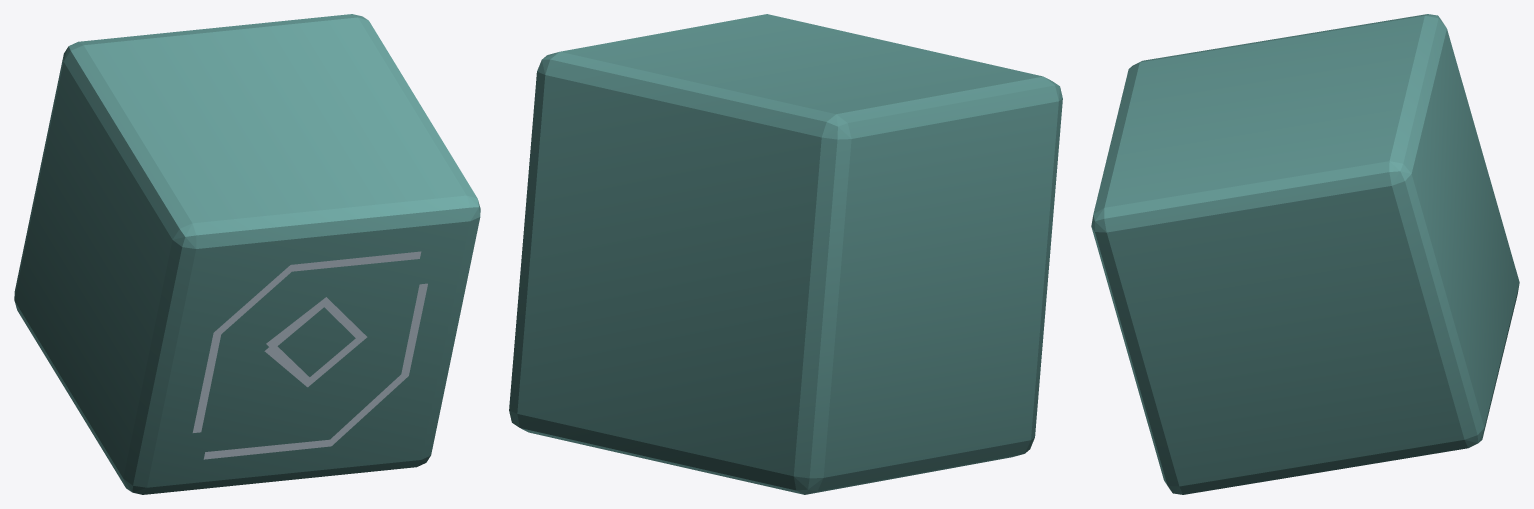
The model's file is 2064_Crystalfly_ShellBlock.fbx.
3 renders of one model, left to right at view 1: azimuth 30°, elevation 25°; view 2: azimuth 150°, elevation 25°; view 3: azimuth 270°, elevation 25°, orthographic. The views are drawn at different scales.
Visible parts, largest first — view 1: PART_HypostasisBevelledShell, PART_ShellAngularInlay_0, PART_ShellAngularInlay_1, PART_ShellAngularInlay_2; view 2: PART_HypostasisBevelledShell; view 3: PART_HypostasisBevelledShell.
Part boxes in pixels (left/top/right/bottom): PART_HypostasisBevelledShell: left=14, top=14, right=480, bottom=494; PART_ShellAngularInlay_0: left=192, top=251, right=421, bottom=432; PART_ShellAngularInlay_1: left=203, top=283, right=427, bottom=459; PART_ShellAngularInlay_2: left=264, top=297, right=367, bottom=387; PART_HypostasisBevelledShell: left=509, top=14, right=1062, bottom=494; PART_HypostasisBevelledShell: left=1091, top=14, right=1519, bottom=494.
Size of the model in its own units: 115 by 125 by 129.
